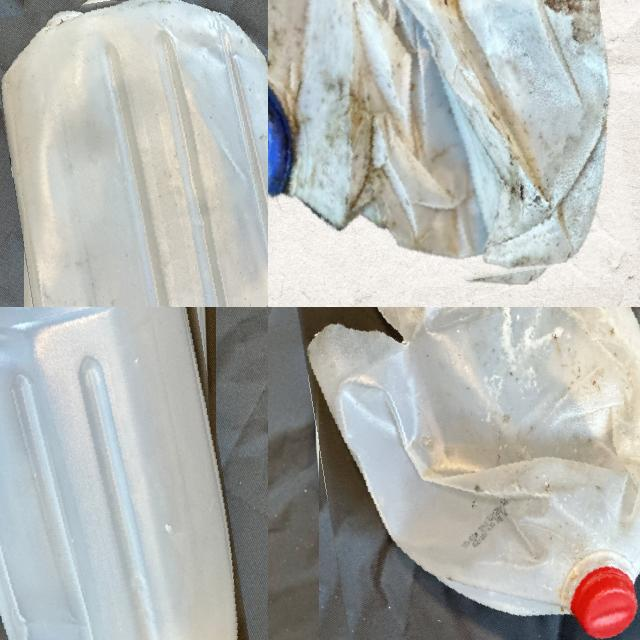milk-jug: (301, 307, 640, 640), (268, 0, 619, 300), (5, 0, 268, 307), (0, 307, 237, 640)
